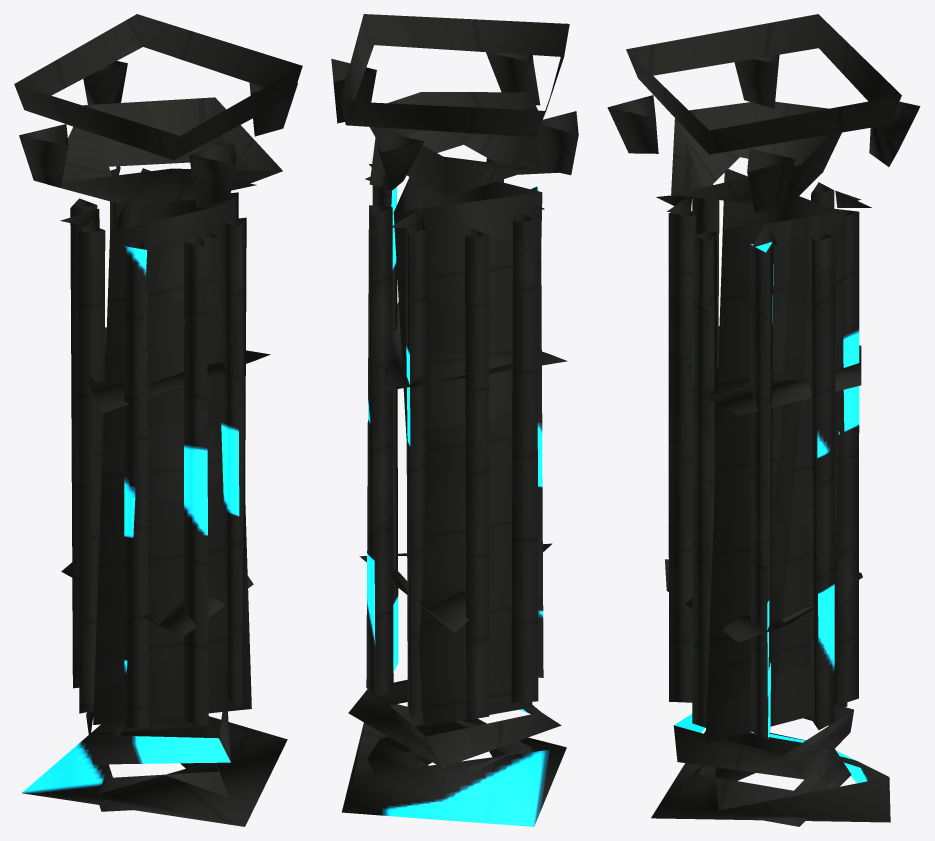
Rendered from aion2_gothic_dungeon_pillar_LOD2.glb.
3 views of the same model, side by side, from view 1: azimuth 30°, elevation 25°; view 2: azimuth 150°, elevation 25°; view 3: azimuth 270°, elevation 25° (orthographic).
Visible parts, largest first — view 1: aion2_gothic_dungeon_pillar_LOD2; view 2: aion2_gothic_dungeon_pillar_LOD2; view 3: aion2_gothic_dungeon_pillar_LOD2.
Part boxes in pixels (bbox=[...]): aion2_gothic_dungeon_pillar_LOD2: bbox=[14, 14, 302, 826]; aion2_gothic_dungeon_pillar_LOD2: bbox=[331, 14, 578, 826]; aion2_gothic_dungeon_pillar_LOD2: bbox=[607, 14, 920, 826].
Bounding box in the file's own units: 2.46 × 6.44 × 2.5.
Materials: 1 (1 with a texture image).
